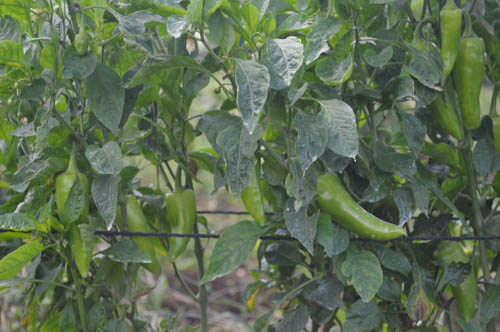ChiliPepper: (317, 173, 405, 241), (53, 177, 97, 279), (120, 194, 159, 277), (439, 240, 477, 319), (455, 43, 484, 122), (158, 189, 190, 260), (434, 9, 460, 74), (241, 168, 263, 225), (434, 88, 459, 136)
